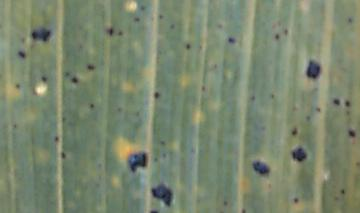tarspot: (151, 183, 173, 205), (126, 150, 147, 173), (305, 59, 321, 79), (32, 27, 51, 43), (252, 159, 269, 176), (291, 146, 307, 163), (17, 50, 27, 59), (348, 129, 357, 138), (106, 26, 114, 36), (87, 63, 96, 71), (227, 37, 237, 44), (40, 74, 48, 82), (304, 114, 312, 122), (153, 91, 160, 99), (291, 127, 298, 135), (200, 84, 207, 92), (20, 36, 27, 44), (345, 108, 351, 117), (149, 208, 159, 213), (71, 77, 78, 84), (333, 98, 340, 105), (314, 105, 321, 112), (217, 23, 224, 30), (133, 16, 141, 22), (274, 32, 280, 40), (157, 14, 165, 20), (14, 82, 21, 88), (12, 122, 18, 129), (60, 152, 67, 158), (222, 200, 229, 206), (340, 188, 346, 195), (170, 23, 176, 30), (159, 140, 166, 146), (153, 156, 159, 163), (283, 28, 288, 36), (89, 103, 95, 109), (65, 71, 71, 77), (117, 29, 123, 35), (293, 197, 299, 203), (356, 159, 360, 168), (117, 105, 122, 112), (54, 135, 59, 141), (140, 5, 146, 10), (346, 100, 351, 106), (186, 43, 191, 49), (347, 18, 353, 23), (162, 152, 167, 158), (251, 95, 256, 101), (270, 93, 275, 99), (213, 63, 218, 69), (62, 116, 66, 123), (241, 208, 246, 213)
